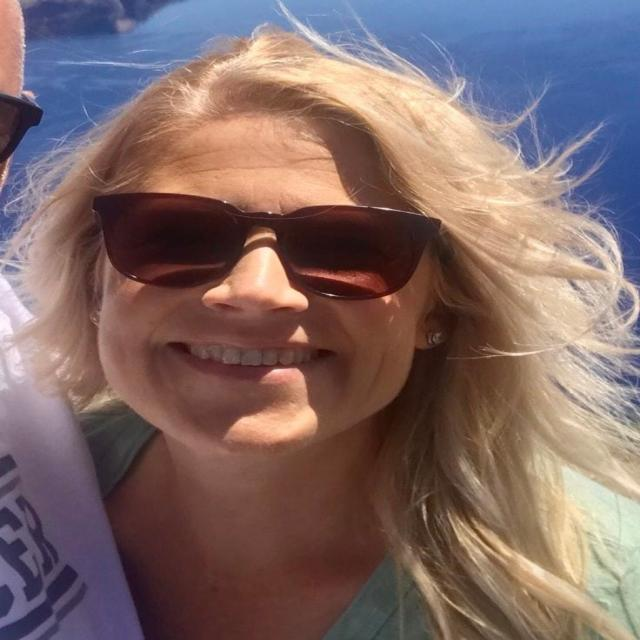2_gafas: (90, 190, 442, 301)
